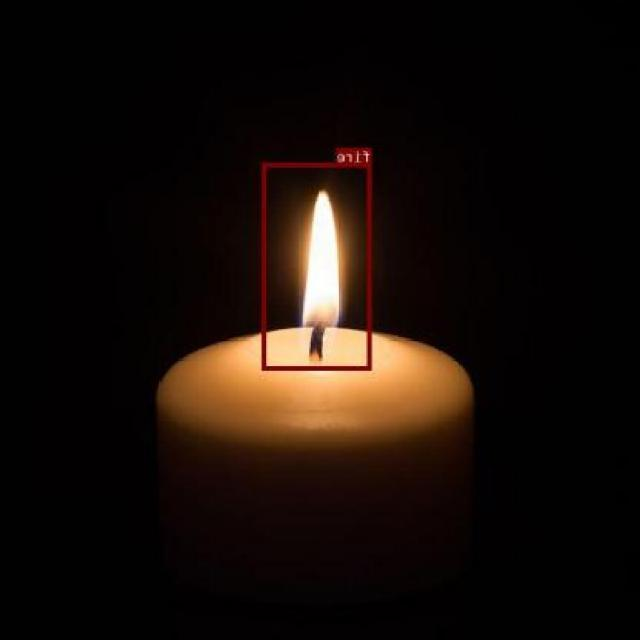fire: (263, 162, 372, 370)
